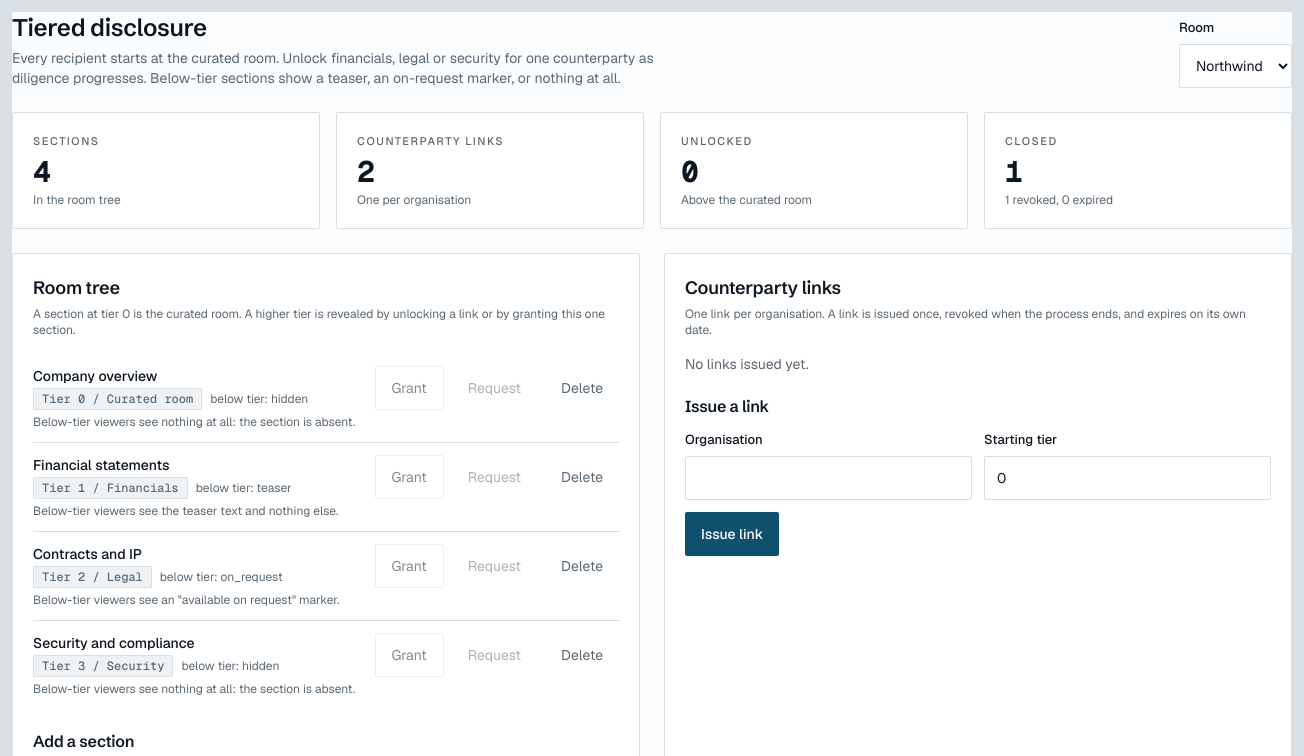
Scenario: issuing and clearing a link › shows the access link once and says it is shown once
In the field labelled "Organisation": (828, 478) 685,456 -> 972,500, type "Contoso Health"
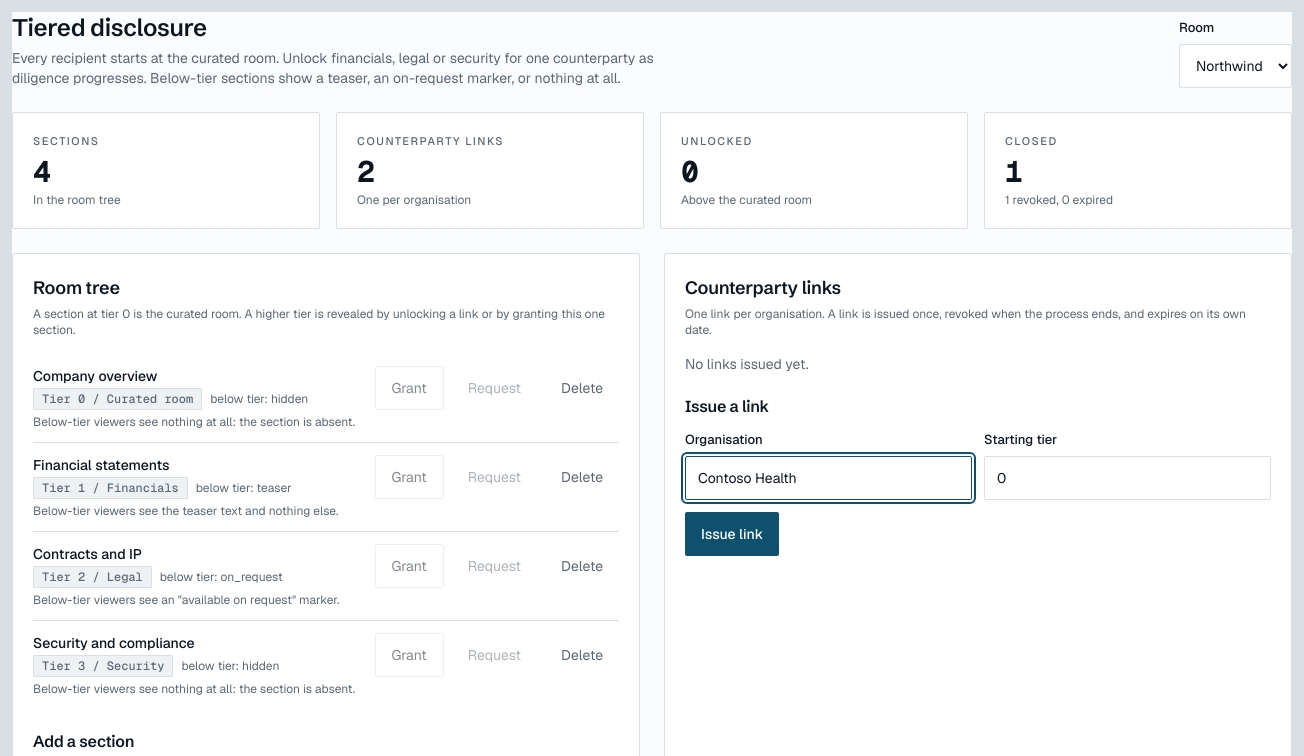
Click the button "Issue link": (732, 534) 685,512 -> 779,556
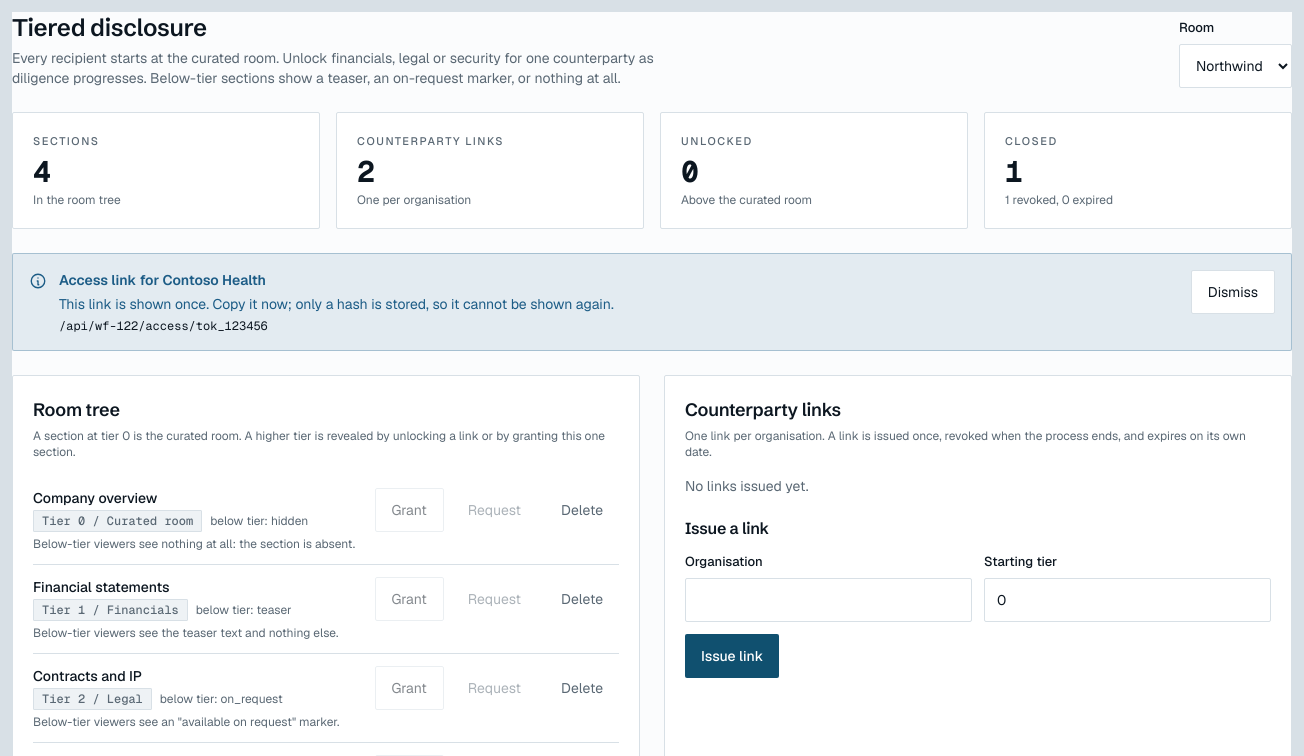
Now the text "Access link for Contoso Health" is shown, box 59,271 -> 266,289
Now the text "/api/wf-122/access/tok_123456" is shown, box 59,318 -> 268,334
Now the text "only a hash is stored, so it cannot be shown again" is shown, box 59,295 -> 614,313
